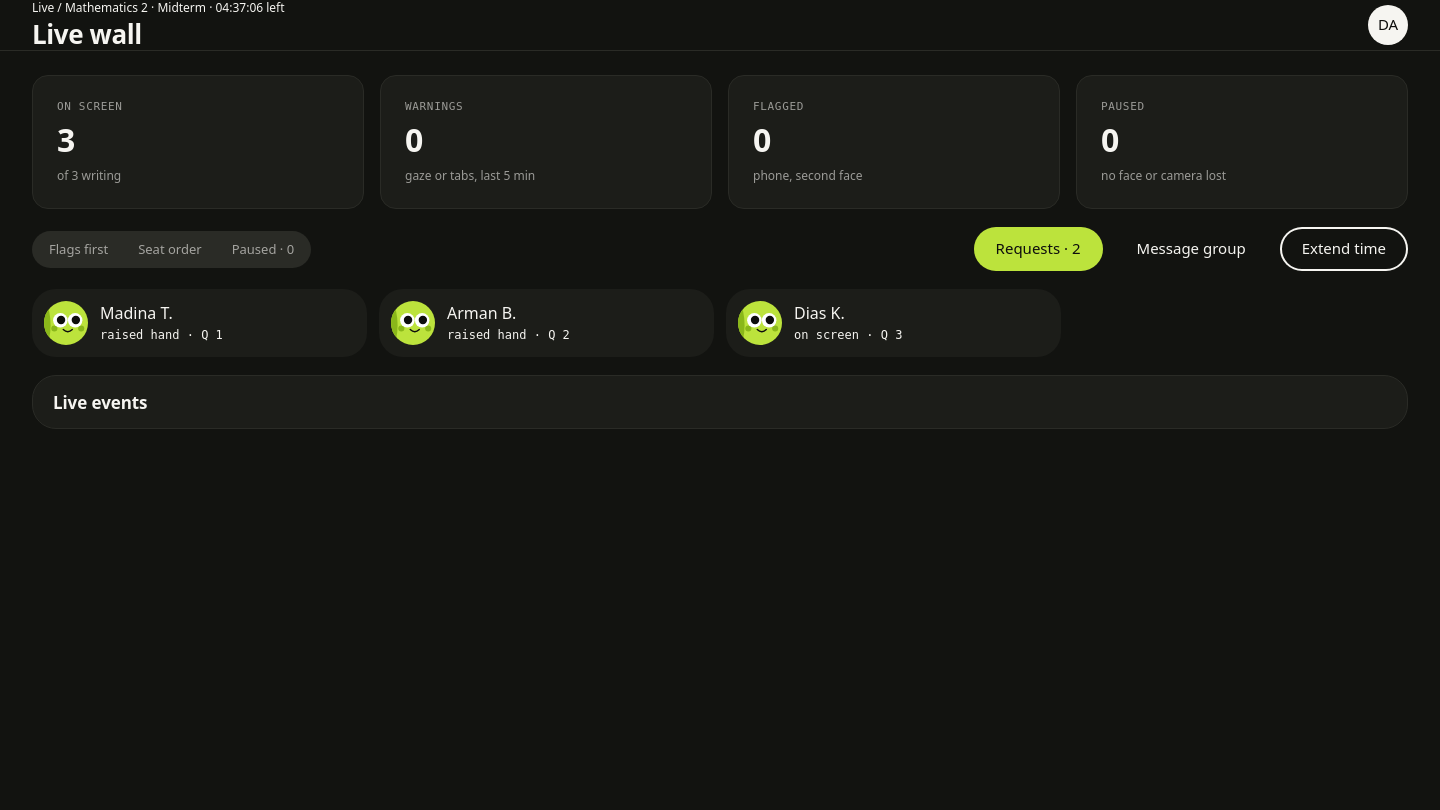
it: 2.4d Ask proctor requests › lists the open requests newest first with reason, time, note, Reply and Mark done
The width and height of the screenshot is (1440, 810).
Click the button "Requests · 2".
click(1038, 249)  # box top-left (974, 227), bottom-right (1102, 271)
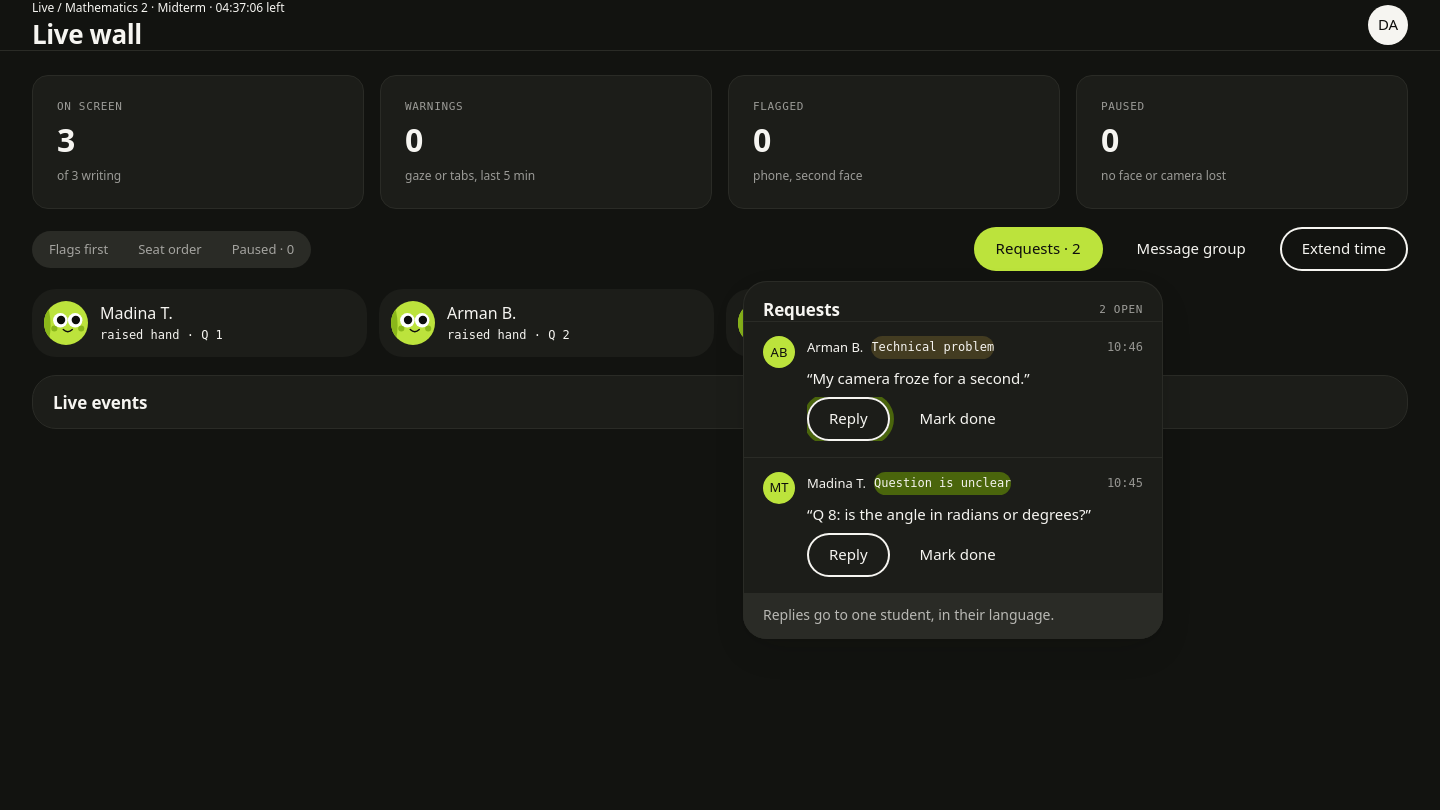
Result: the heading "Requests" is shown at top-left (763, 299), bottom-right (840, 321)
Result: the text "2 open" is shown at top-left (1099, 304), bottom-right (1143, 317)
Result: the 3rd list item shows "Arman B." at top-left (807, 338), bottom-right (863, 356)
